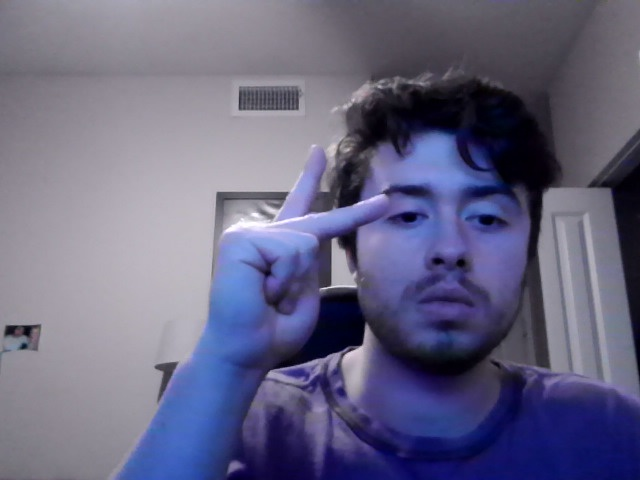k: (207, 144, 390, 380)
